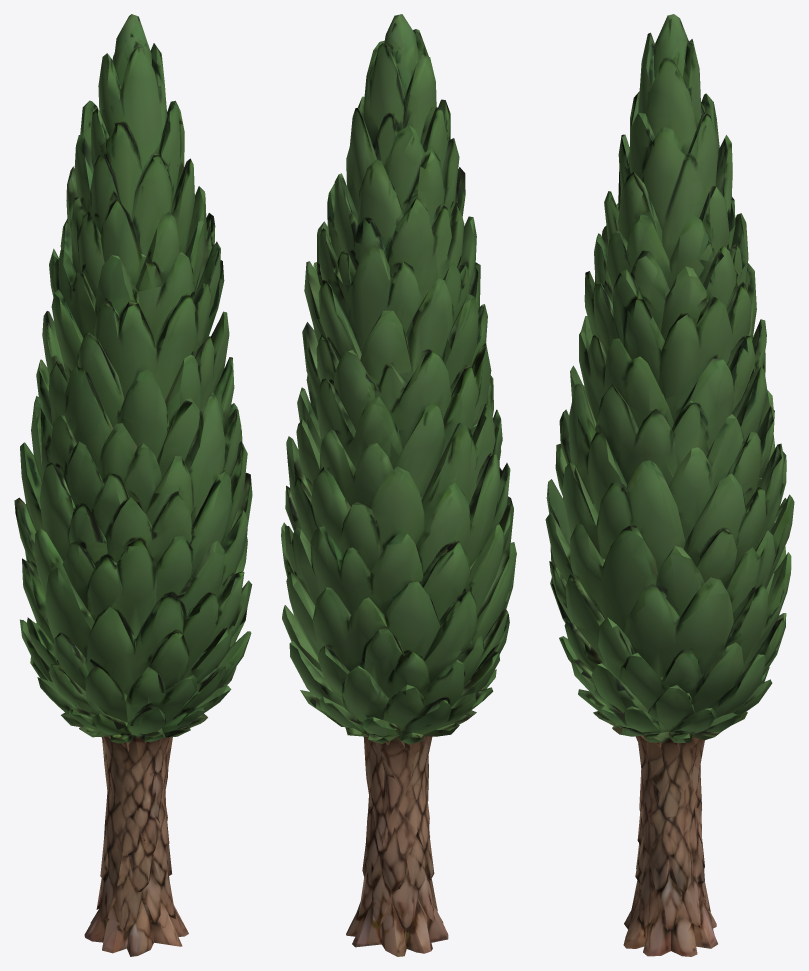
File: cypress.glb
3 renders of one model, left to right at view 1: azimuth 30°, elevation 25°; view 2: azimuth 150°, elevation 25°; view 3: azimuth 270°, elevation 25°, orthographic.
Parts seen in each view (by area): view 1: cypress; view 2: cypress; view 3: cypress.
Part boxes in pixels (x1,y1,x2,y2): cypress: [14, 14, 252, 956]; cypress: [281, 14, 516, 956]; cypress: [545, 14, 794, 956].
Bounding box in the file's own units: 1.83 × 8 × 1.96.
1 material, 1 textured.
